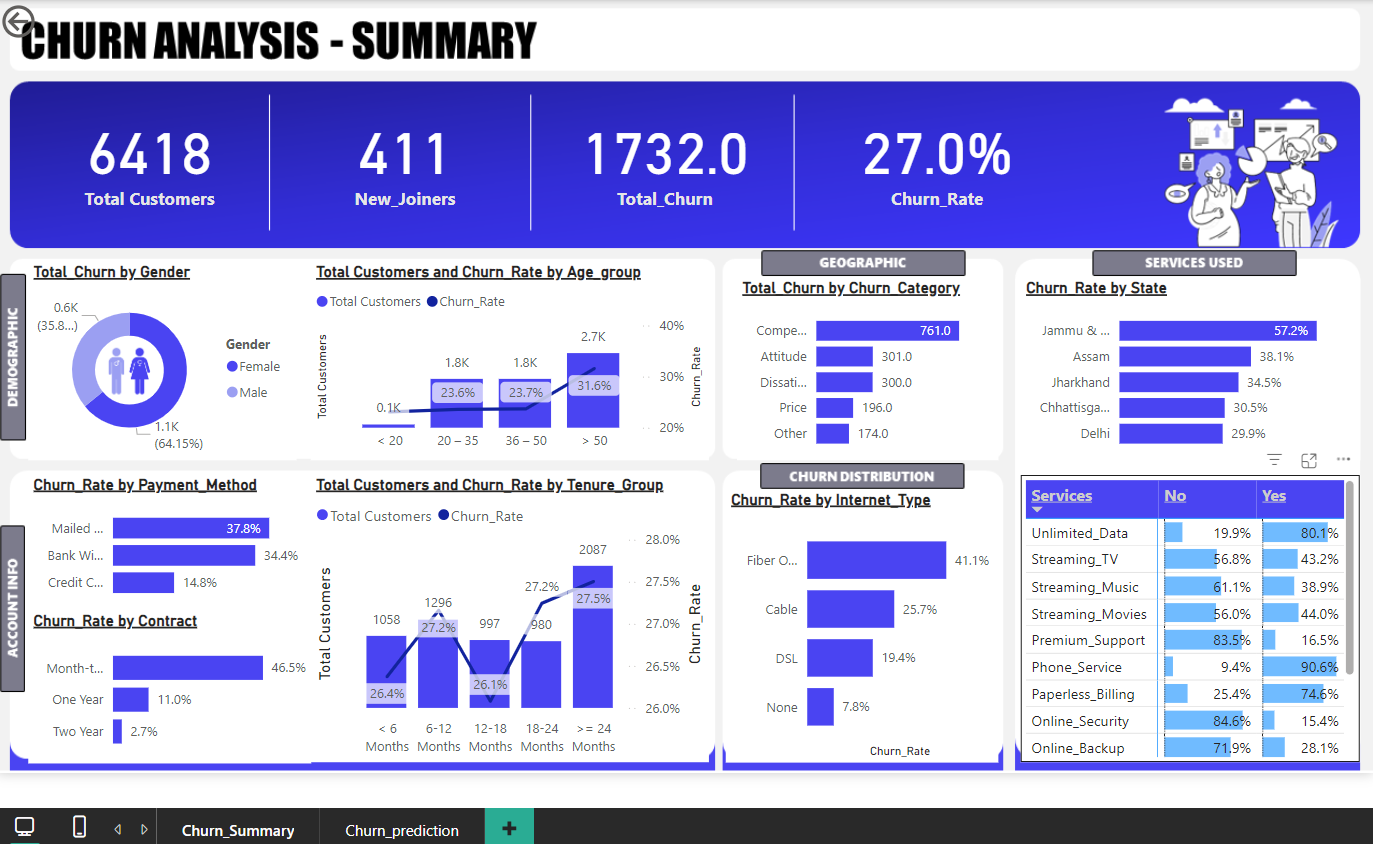

What the dashboard file says about the page in this screenshot:
{"tool":"powerbi","page":{"name":"Churn_Summary","canvas":[1280,720],"ordinal":0},"visuals":[{"type":"actionButton","box":[0,0,100,40],"z":0},{"type":"donutChart","fields":{"Category":["prod_Churn.Gender"],"Y":["tbl_measure.Total_Churn"]},"box":[28.8,244.3,249.7,183.9],"z":1000},{"type":"lineStackedColumnComboChart","fields":{"Y2":["tbl_measure.Churn_Rate"],"Category":["age.Age_group"],"Y":["tbl_measure.Total_Customer"]},"box":[292.3,244.3,370.5,183.9],"z":2000},{"type":"clusteredBarChart","fields":{"Category":["prod_Churn.Payment_Method"],"Y":["tbl_measure.Churn_Rate"]},"box":[28.8,441.9,263.5,126.2],"z":3000},{"type":"clusteredBarChart","fields":{"Category":["prod_Churn.Contract"],"Y":["tbl_measure.Churn_Rate"]},"box":[28.8,568.1,263.5,141.3],"z":4000},{"type":"card","fields":{"Values":["tbl_measure.Total_Customer"]},"box":[49.4,89.2,186.6,113.9],"z":5000},{"type":"card","fields":{"Values":["tbl_measure.New_Joiners"]},"box":[292.3,89.2,175.6,113.9],"z":6000},{"type":"card","fields":{"Values":["tbl_measure.Total_Churn"]},"box":[533.8,89.2,175.6,113.9],"z":7000},{"type":"card","fields":{"Values":["tbl_measure.Churn_Rate"]},"box":[784.9,89.2,179.8,113.9],"z":8000},{"type":"lineStackedColumnComboChart","fields":{"Category":["tenure.Tenure_Group"],"Y":["tbl_measure.Total Customers"],"Y2":["tbl_measure.Churn_Rate"]},"box":[292.3,441.9,370.5,267.6],"z":9000},{"type":"clusteredBarChart","fields":{"Category":["prod_Churn.State"],"Y":["tbl_measure.Churn_Rate"]},"box":[952.3,259.3,315.6,168.8],"z":10000},{"type":"clusteredBarChart","fields":{"Y":["tbl_measure.Total_Churn"],"Category":["prod_Churn.Churn_Category"]},"box":[688.9,259.3,242.9,168.8],"z":11000},{"type":"clusteredBarChart","fields":{"Y":["tbl_measure.Churn_Rate"],"Category":["prod_Churn.Internet_Type"]},"box":[677.9,455.6,253.9,253.9],"z":12000},{"type":"pivotTable","fields":{"Rows":["prod_Services.Services"],"Columns":["prod_Services.Status"],"Values":["Sum(prod_Services.churn_status)"]},"box":[952.3,441.9,315.6,267.6],"z":13000},{"type":"image","box":[38.4,311.5,170.2,65.9],"z":14000}]}

Visuals, with their boxes on the page's 1280x720 design canvas (x1, y1, x2, y2). These are canvas units, not pixel positions in the 1373x844 screenshot, which may show the page scaled, cropped or inside an application window:
actionButton: [x1=0, y1=0, x2=100, y2=40]
donutChart - prod_Churn.Gender x tbl_measure.Total_Churn: [x1=29, y1=244, x2=278, y2=428]
lineStackedColumnComboChart - tbl_measure.Churn_Rate x age.Age_group: [x1=292, y1=244, x2=663, y2=428]
clusteredBarChart - prod_Churn.Payment_Method x tbl_measure.Churn_Rate: [x1=29, y1=442, x2=292, y2=568]
clusteredBarChart - prod_Churn.Contract x tbl_measure.Churn_Rate: [x1=29, y1=568, x2=292, y2=709]
card - tbl_measure.Total_Customer: [x1=49, y1=89, x2=236, y2=203]
card - tbl_measure.New_Joiners: [x1=292, y1=89, x2=468, y2=203]
card - tbl_measure.Total_Churn: [x1=534, y1=89, x2=709, y2=203]
card - tbl_measure.Churn_Rate: [x1=785, y1=89, x2=965, y2=203]
lineStackedColumnComboChart - tenure.Tenure_Group x tbl_measure.Total Customers: [x1=292, y1=442, x2=663, y2=710]
clusteredBarChart - prod_Churn.State x tbl_measure.Churn_Rate: [x1=952, y1=259, x2=1268, y2=428]
clusteredBarChart - tbl_measure.Total_Churn x prod_Churn.Churn_Category: [x1=689, y1=259, x2=932, y2=428]
clusteredBarChart - tbl_measure.Churn_Rate x prod_Churn.Internet_Type: [x1=678, y1=456, x2=932, y2=710]
pivotTable - prod_Services.Services x prod_Services.Status: [x1=952, y1=442, x2=1268, y2=710]
image: [x1=38, y1=312, x2=209, y2=377]
